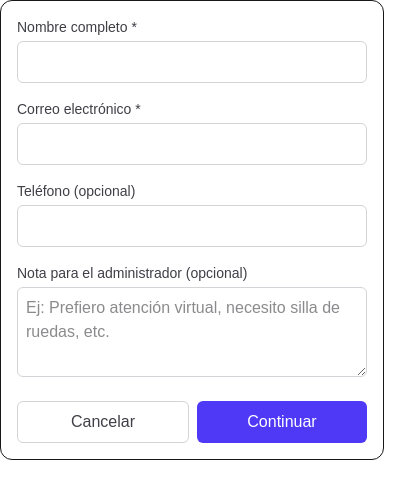
Scenario: FormularioDatosPersonales › Escenario 3: Validacion del correo electronico muestra error con formato invalido
Note: Llenamos el nombre correctamente para aislar el error de email
In the field labelled "Nombre completo *": (192, 62) top-left (17, 41), bottom-right (367, 83), type "Juan Perez"
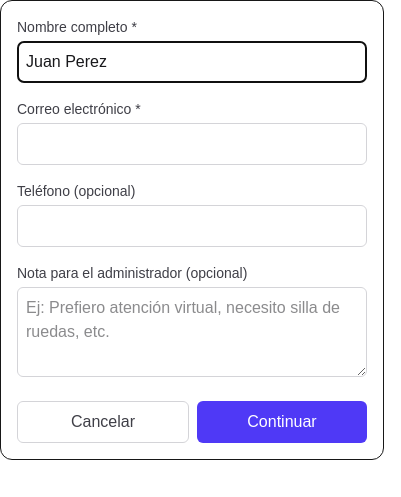
In the field labelled "Correo electrónico *": (192, 144) top-left (17, 123), bottom-right (367, 165), type "juan.com"
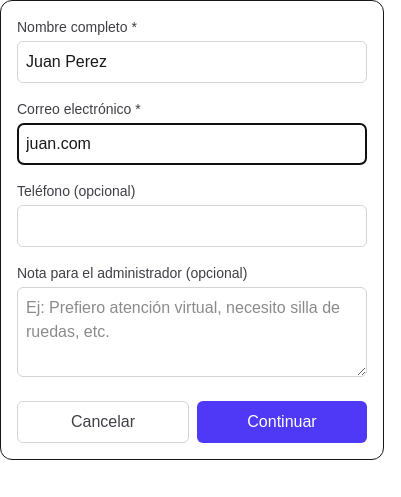
Click the button "Continuar": (282, 422) top-left (197, 401), bottom-right (367, 443)
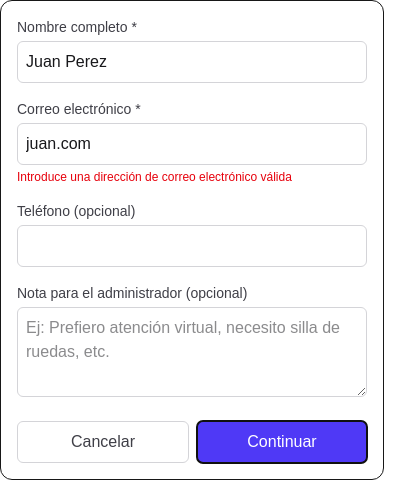
Expected: the text "Introduce una dirección de correo electrónico válida" is shown, top-left (17, 170), bottom-right (292, 184)
